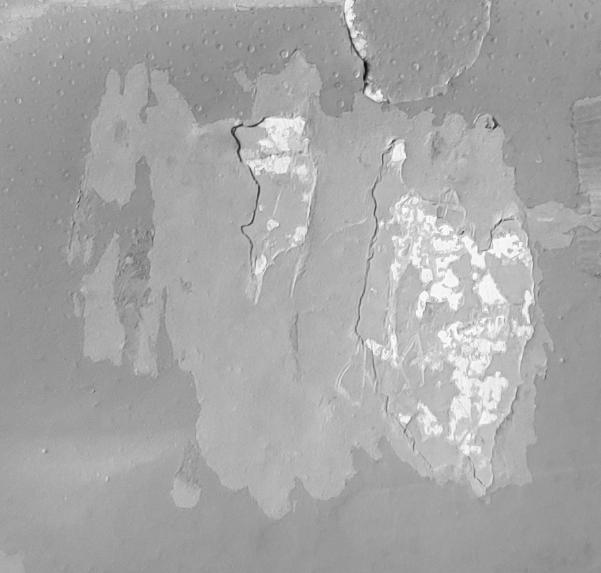paint-off: (1, 0, 601, 573)
